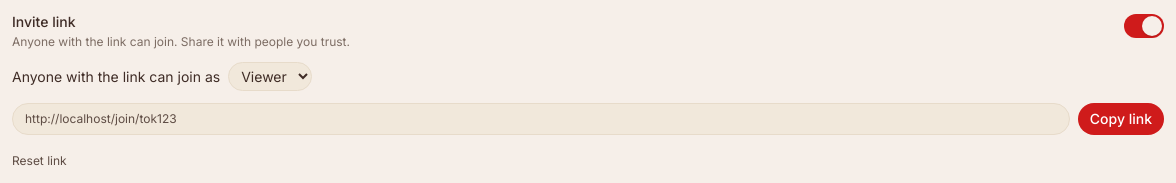
Test: JoinLinkControls — on › turns off, and the link disappears
The width and height of the screenshot is (1176, 183).
What coordinates should you click on to do the following:
click the switch
I would click on:
 (1144, 26)
Its box is [1124,14,1164,38].
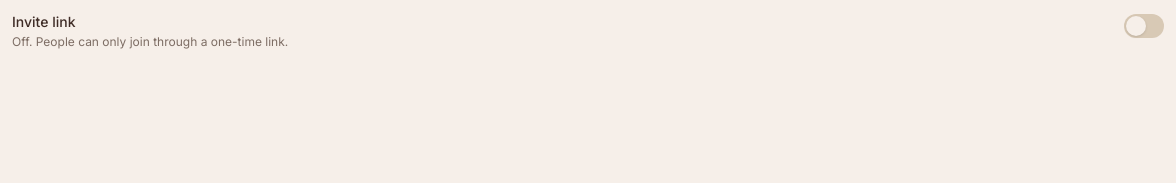
Check: the field is gone
